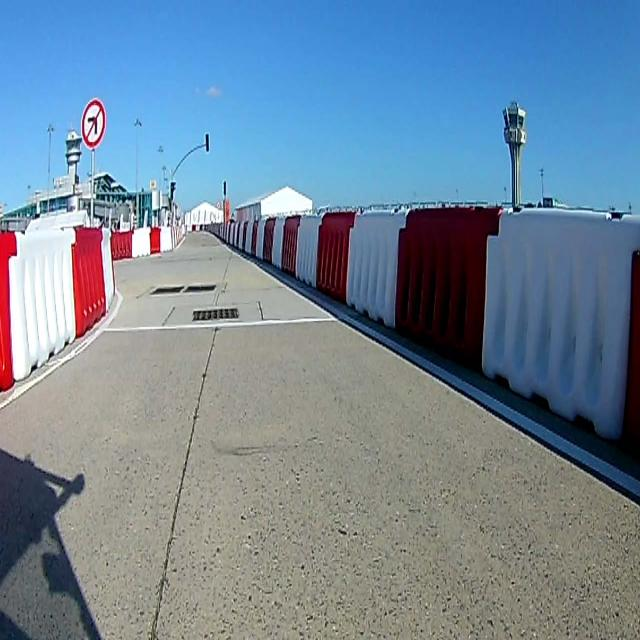soladonulmez: (82, 98, 106, 146)
